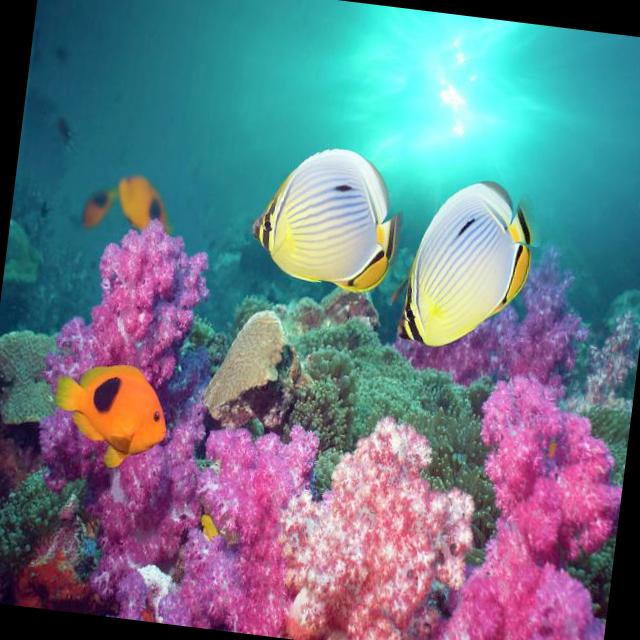ButterflyFish: (396, 166, 538, 358), (252, 138, 408, 296)
